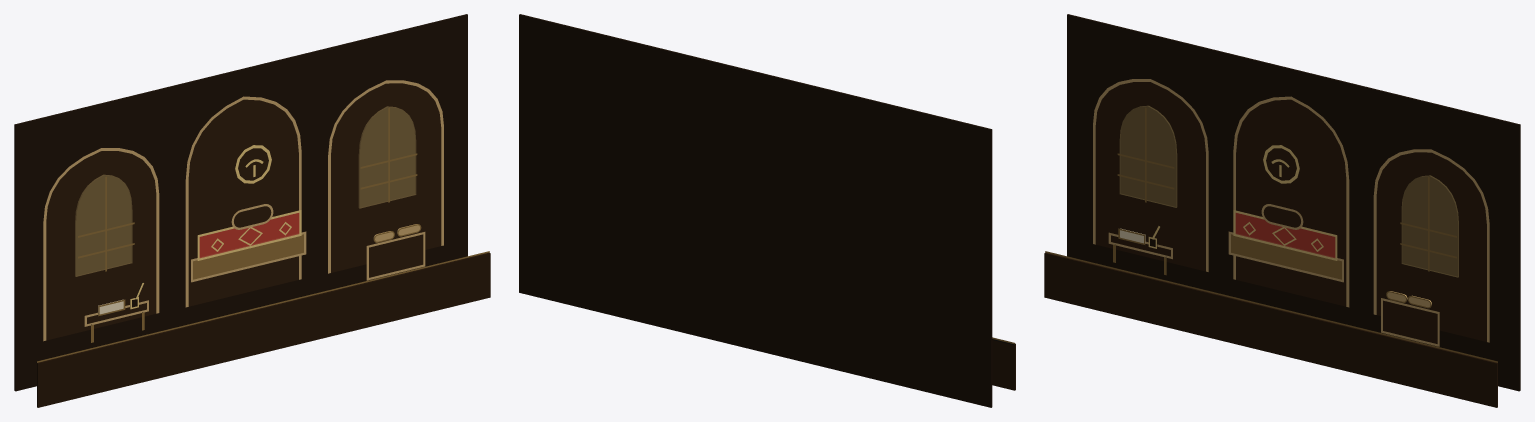
Rendered from loc-kantselyariya.glb.
The picture shows the model from 3 angles, left to right: view 1: azimuth 30°, elevation 25°; view 2: azimuth 150°, elevation 25°; view 3: azimuth 330°, elevation 25°; orthographic projection. The views are drawn at different scales.
Parts seen in each view (by area): view 1: loc-kantselyariya; view 2: loc-kantselyariya; view 3: loc-kantselyariya.
Part boxes in pixels (box(x1,y1,x2,y2)): loc-kantselyariya: box(14, 14, 490, 407); loc-kantselyariya: box(519, 14, 1015, 407); loc-kantselyariya: box(1044, 14, 1520, 407).
Bounding box in the file's own units: 5.33 × 3 × 0.48.
